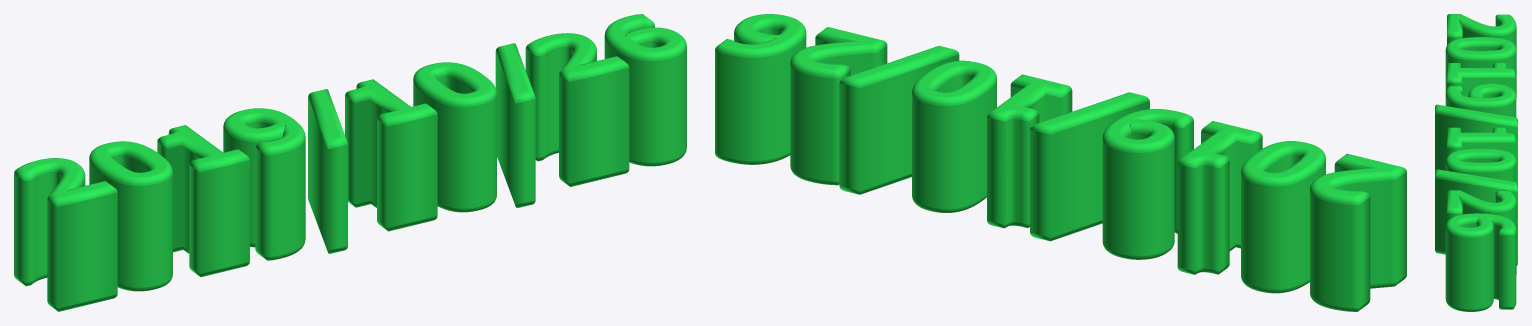
File: text_day.fbx
The picture shows the model from 3 angles, left to right: view 1: azimuth 30°, elevation 25°; view 2: azimuth 150°, elevation 25°; view 3: azimuth 270°, elevation 25°; orthographic projection. The views are drawn at different scales.
Parts seen in each view (by area): view 1: Text_day; view 2: Text_day; view 3: Text_day.
Boxes of the visible parts, x1,y1,x2,y2 form: Text_day: (14, 14, 686, 311); Text_day: (715, 14, 1406, 311); Text_day: (1435, 14, 1517, 311).
Size of the model in its own units: 436 by 74 by 69.13.
